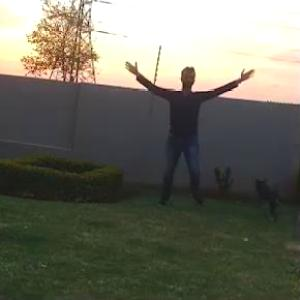takeoff: (128, 65, 246, 197)
